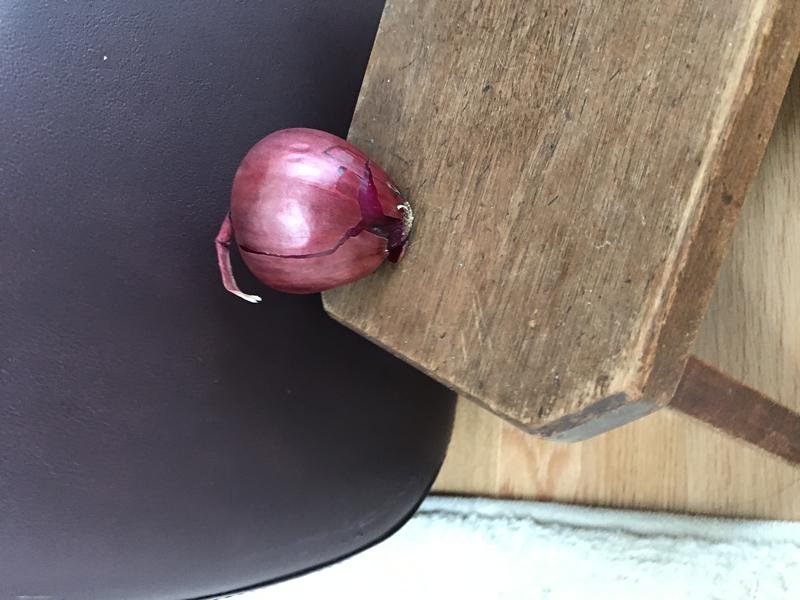purple_onion: (210, 111, 419, 320)
